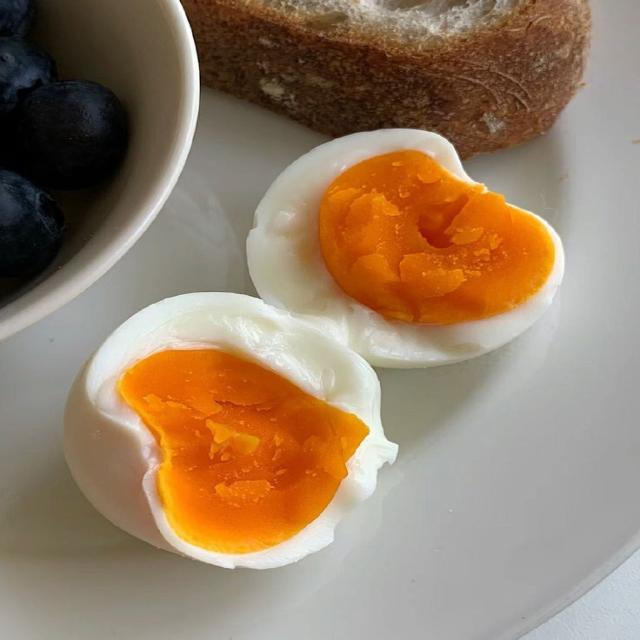sliced_bread: (182, 0, 590, 158)
